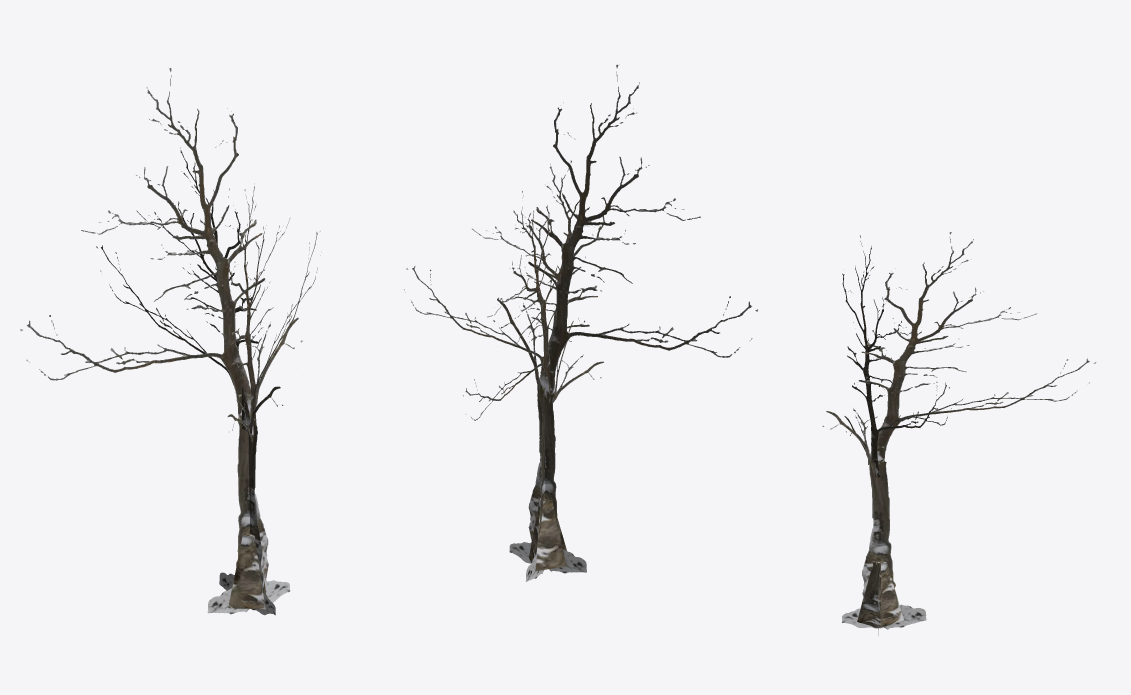
Rendered from arvore_seca.glb.
3 renders of one model, left to right at view 1: azimuth 30°, elevation 25°; view 2: azimuth 150°, elevation 25°; view 3: azimuth 270°, elevation 25°, orthographic. The views are drawn at different scales.
Visible parts, largest first — view 1: arvore_seca; view 2: arvore_seca; view 3: arvore_seca.
Boxes of the visible parts, box(x1,y1,x2,y2) form: arvore_seca: box(20, 68, 321, 615); arvore_seca: box(404, 64, 757, 581); arvore_seca: box(822, 232, 1096, 635).
Bounding box in the file's own units: 6.61 × 10 × 5.58.
1 material, 1 textured.
